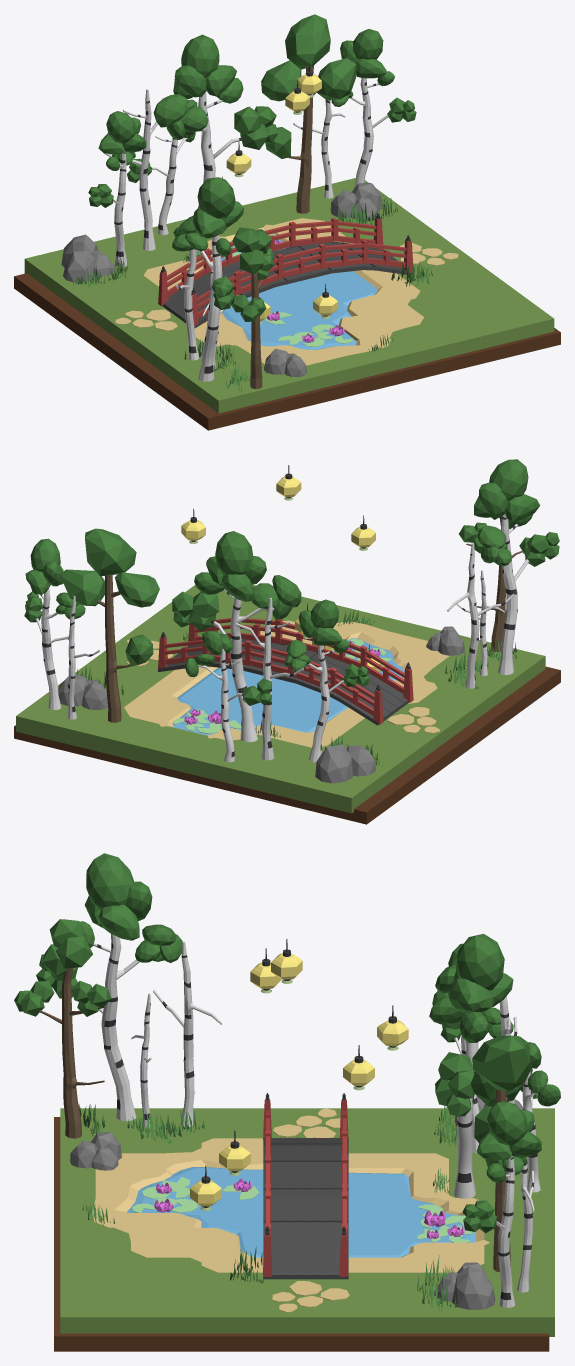
Rendered from japanese.gltf.
3 renders of one model, top to bottom at view 1: azimuth 30°, elevation 25°; view 2: azimuth 150°, elevation 25°; view 3: azimuth 270°, elevation 25°, orthographic. The views are drawn at different scales.
Visible parts, largest first — view 1: Cube.001, Cube.005, Icosphere.016, Circle, Plane.003, Cylinder.005, Cylinder.003, Cylinder.001, Icosphere.010, Icosphere.017, Cylinder.006, Icosphere.018 (+4 smaller); view 2: Cube.001, Cube.005, Icosphere.016, Circle, Cylinder.005, Plane.003, Cylinder.001, Cylinder.003, Icosphere.001, Icosphere.017, Icosphere.010, Cylinder.006 (+8 smaller); view 3: Cube.001, Cube.005, Plane.003, Icosphere.016, Cylinder.005, Icosphere.010, Cylinder.003, Circle, Cylinder.004, Icosphere.018, Icosphere.001, Icosphere.002 (+10 smaller).
Boxes of the visible parts, x1,y1,x2,y2 form: Cube.001: [14, 178, 560, 430]; Cube.005: [158, 213, 412, 328]; Icosphere.016: [153, 34, 277, 254]; Circle: [261, 14, 356, 213]; Plane.003: [221, 239, 377, 349]; Cylinder.005: [172, 177, 243, 381]; Cylinder.003: [326, 29, 416, 188]; Cylinder.001: [88, 111, 146, 267]; Icosphere.010: [231, 227, 274, 389]; Icosphere.017: [61, 234, 114, 282]; Cylinder.006: [103, 89, 157, 250]; Icosphere.018: [330, 182, 382, 220]; Cube.001: [14, 584, 560, 824]; Cube.005: [158, 618, 413, 725]; Icosphere.016: [172, 531, 301, 742]; Circle: [62, 528, 159, 722]; Cylinder.005: [474, 459, 559, 674]; Plane.003: [172, 638, 404, 735]; Cylinder.001: [284, 599, 369, 762]; Cylinder.003: [24, 538, 85, 709]; Icosphere.001: [185, 630, 271, 762]; Icosphere.017: [315, 744, 375, 783]; Icosphere.010: [459, 493, 545, 651]; Cylinder.006: [235, 597, 303, 760]; Cube.001: [54, 1108, 554, 1351]; Cube.005: [263, 1093, 348, 1279]; Plane.003: [127, 1167, 475, 1257]; Icosphere.016: [429, 933, 513, 1198]; Cylinder.005: [36, 853, 182, 1121]; Icosphere.010: [14, 919, 111, 1138]; Cylinder.003: [462, 1101, 541, 1307]; Circle: [470, 1035, 531, 1271]; Cylinder.004: [153, 941, 221, 1126]; Icosphere.018: [434, 1262, 495, 1309]; Icosphere.001: [520, 1042, 560, 1192]; Icosphere.002: [70, 1132, 121, 1170].
Bounding box in the file's own units: 11.36 × 7.01 × 11.37.
